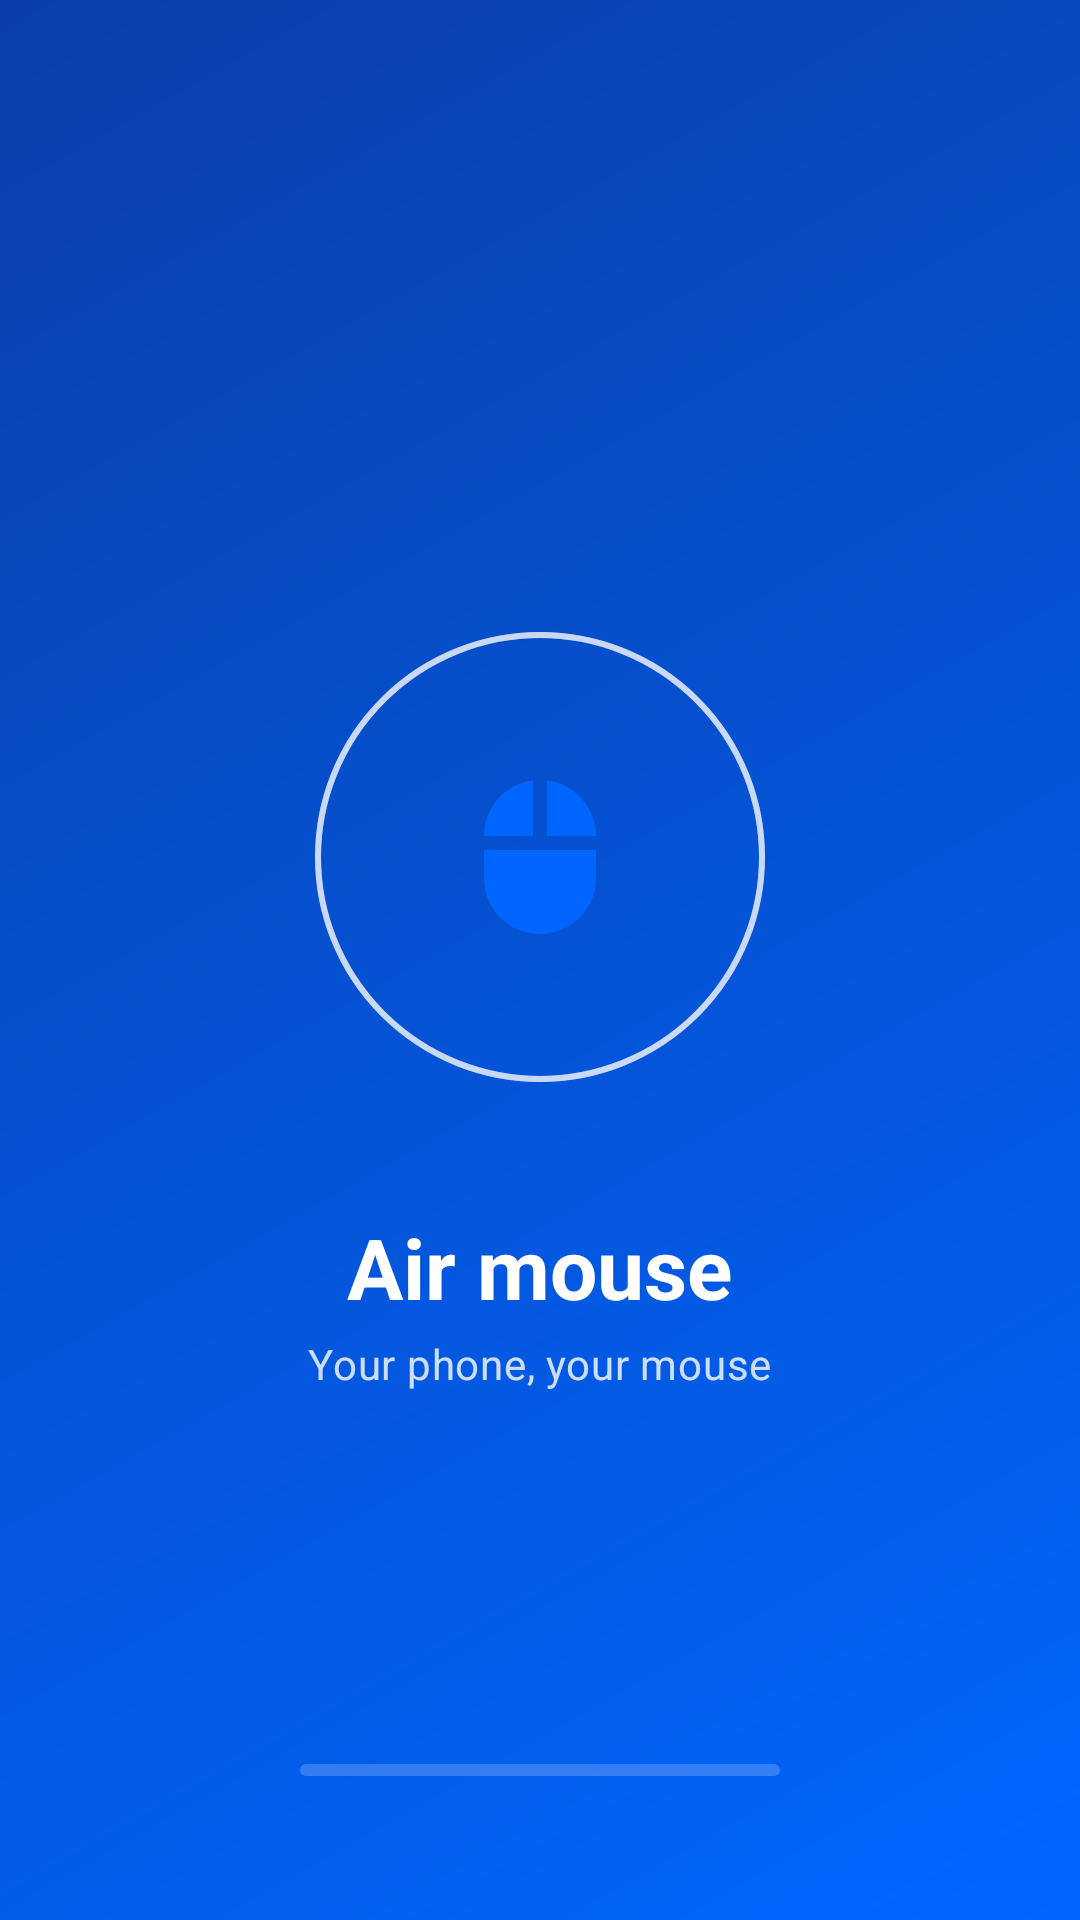

Point at icon controls on the screen. Image size 1080*1920, points as point (x, y).
mouse: point (540, 857)
